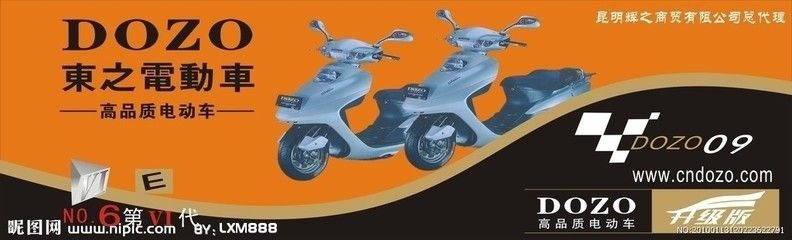non-vehicle: (403, 16, 595, 166), (270, 22, 419, 181)
